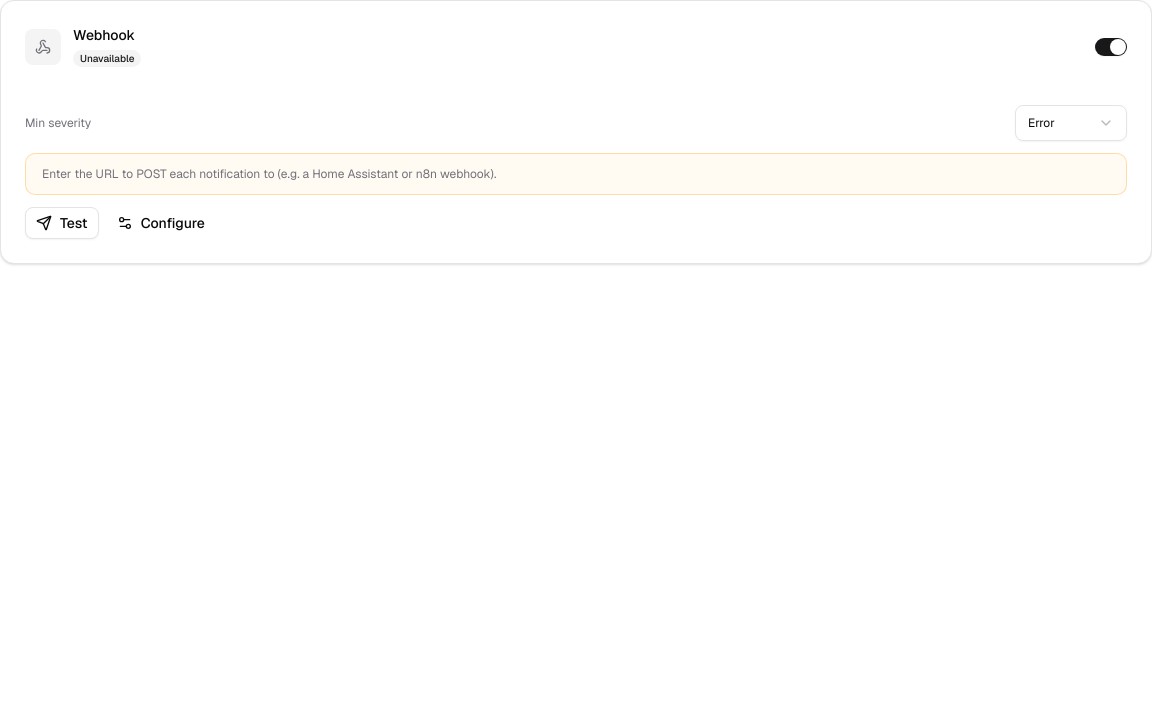
Test: webhook form › shows the server's reason when it refuses the settings
Click the button "Configure" at (161, 223), box [107,207,215,239]
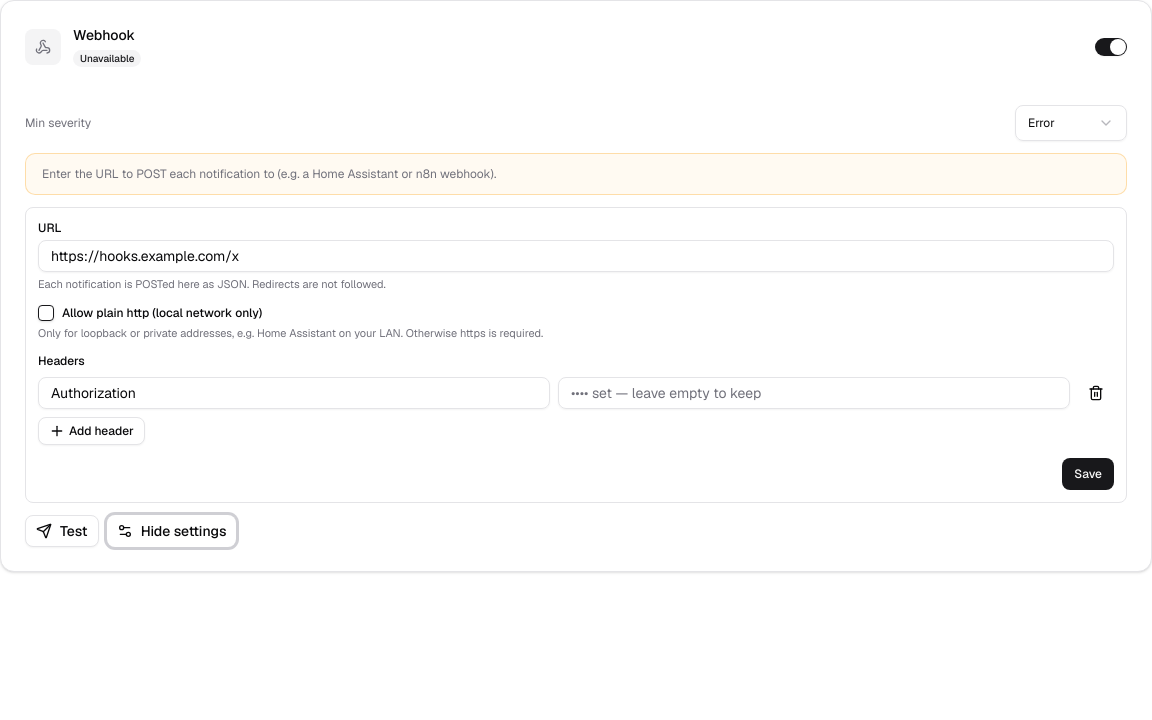
Click the button "Save" at (1088, 474), box [1062,458,1114,490]
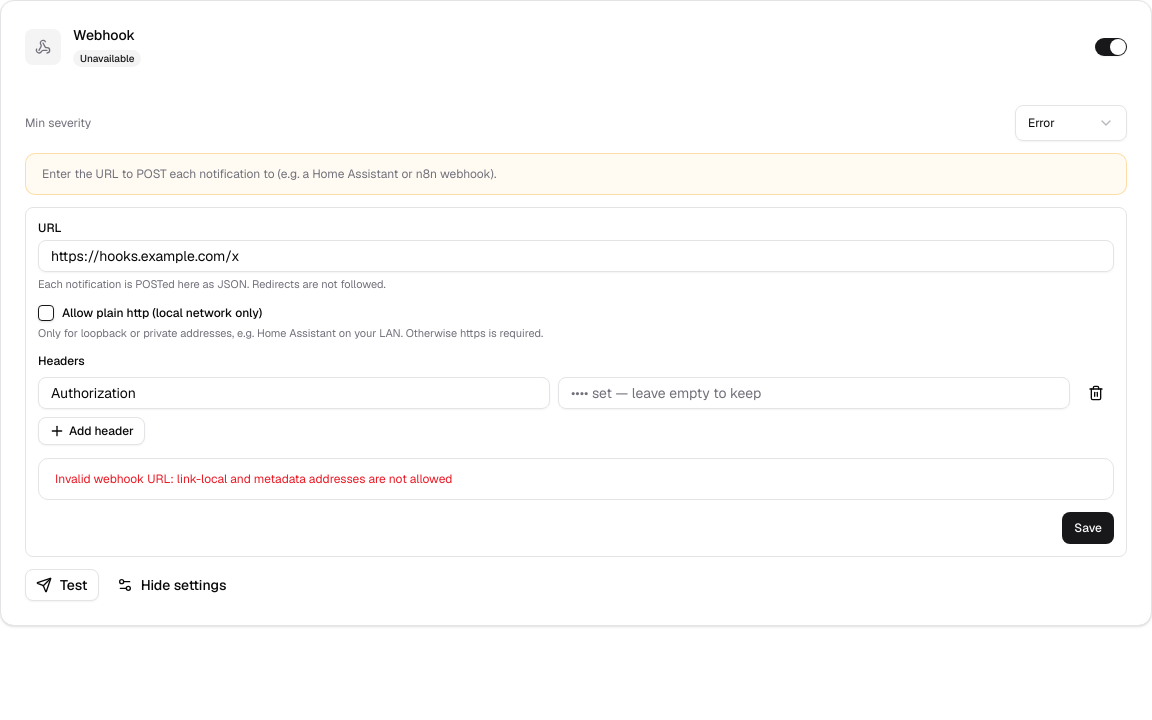
Result: the text "link-local and metadata addresses are not allowed" is shown at [55,471,452,487]
